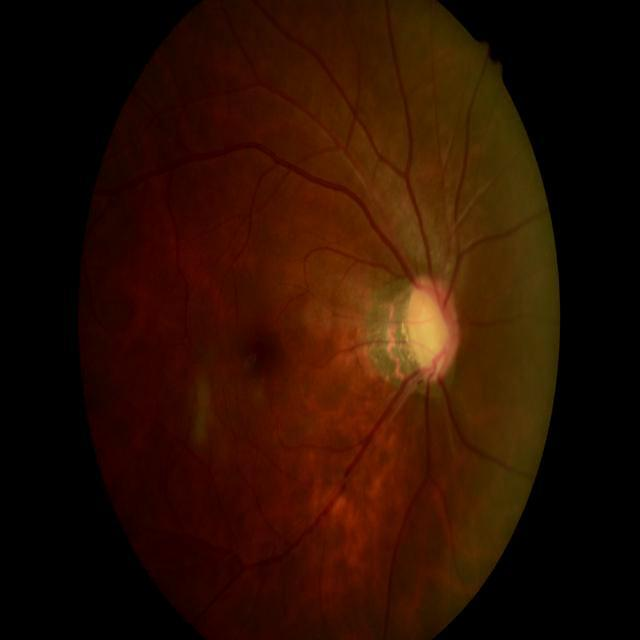cup: (414, 284, 449, 376)
disk: (400, 274, 462, 384)
